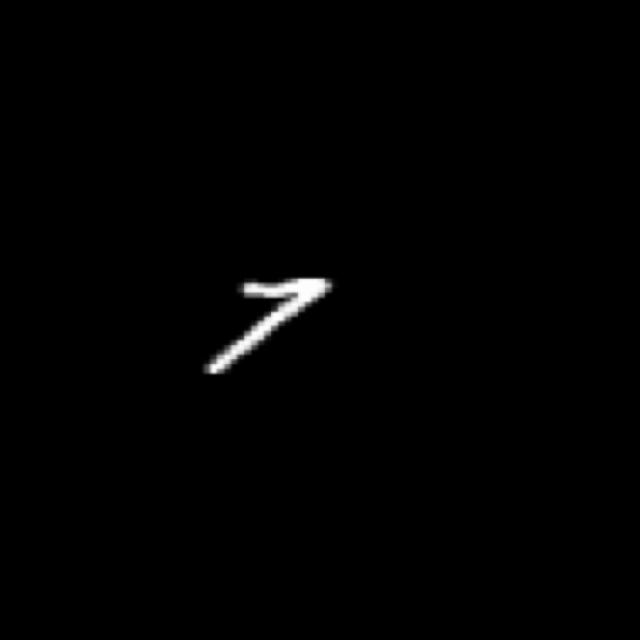seven -7-: (190, 269, 342, 384)
